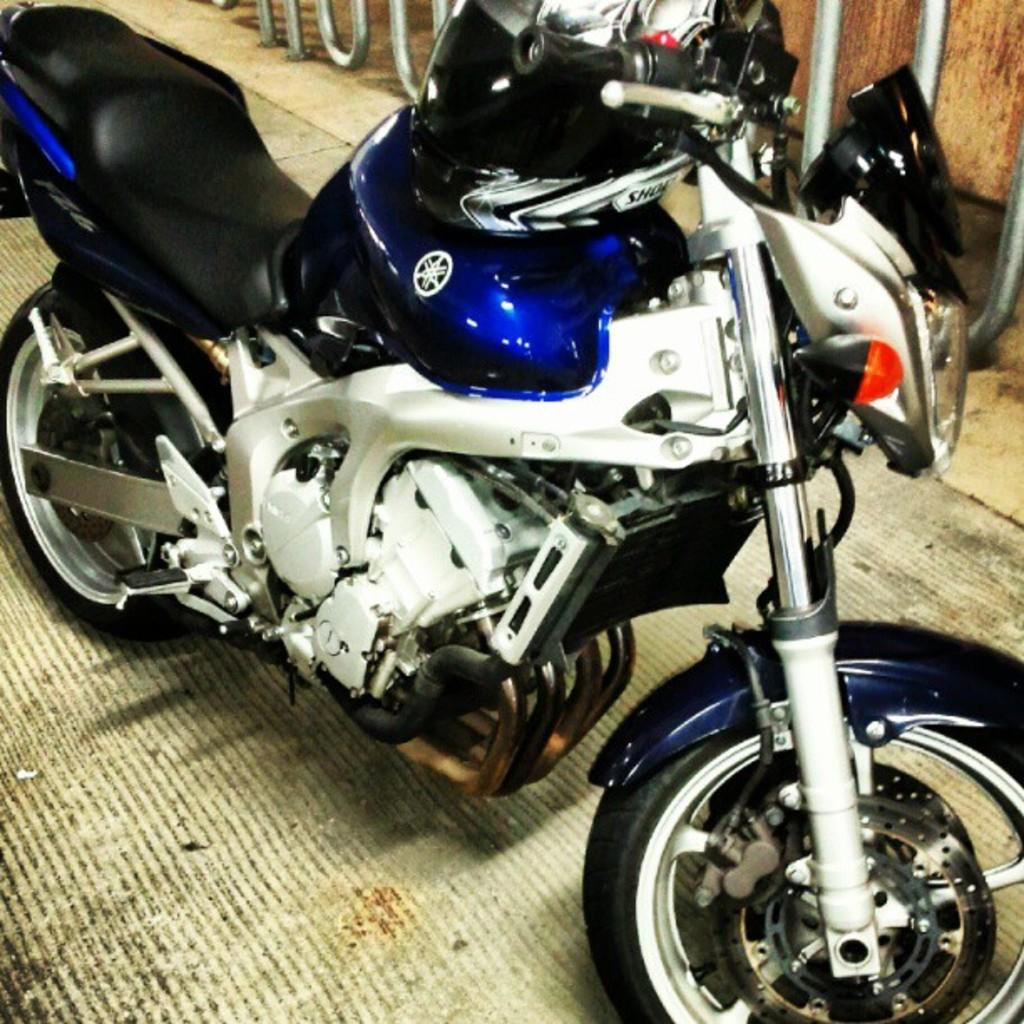helmet: (408, 0, 746, 241)
